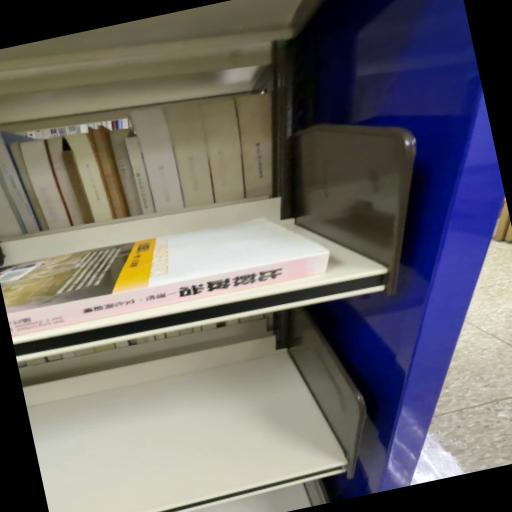flat: (1, 219, 330, 337)
